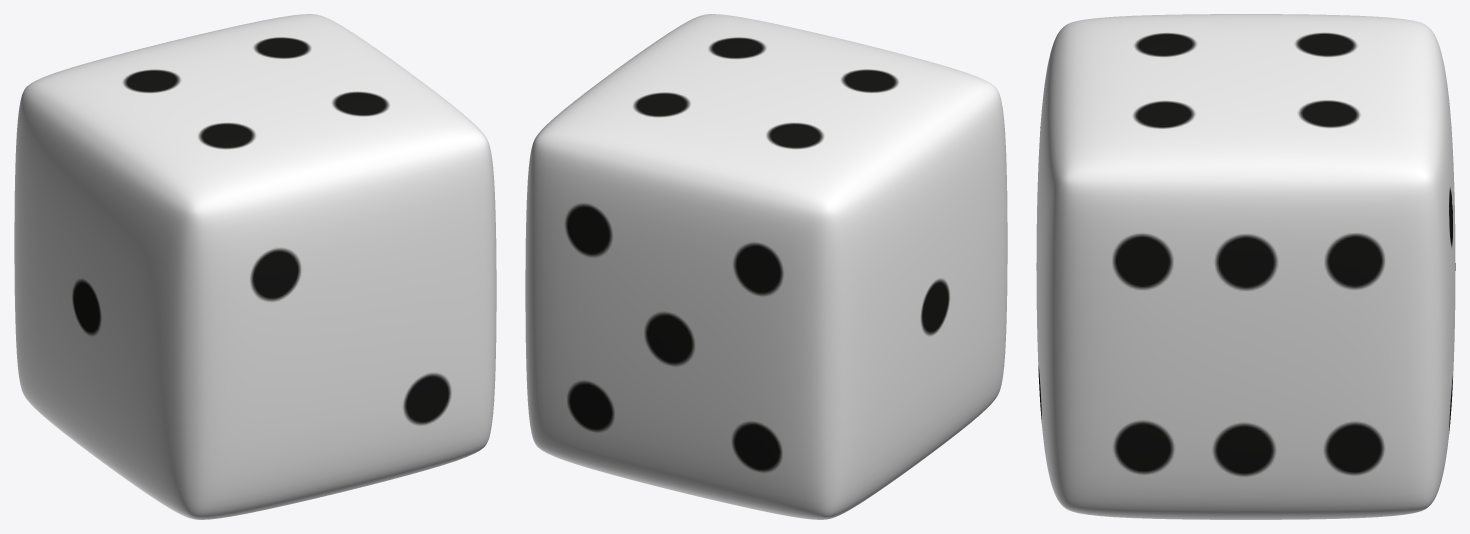
File: Dice.fbx
3 views of the same model, side by side, from view 1: azimuth 30°, elevation 25°; view 2: azimuth 150°, elevation 25°; view 3: azimuth 270°, elevation 25° (orthographic). The views are drawn at different scales.
Visible parts, largest first — view 1: Cube; view 2: Cube; view 3: Cube.
Part boxes in pixels (x1,y1,x2,y2): Cube: [14, 14, 496, 519]; Cube: [525, 14, 1007, 519]; Cube: [1036, 14, 1455, 519].
Bounding box in the file's own units: 198 × 198 × 198.
Materials: 1 (1 with a texture image).
